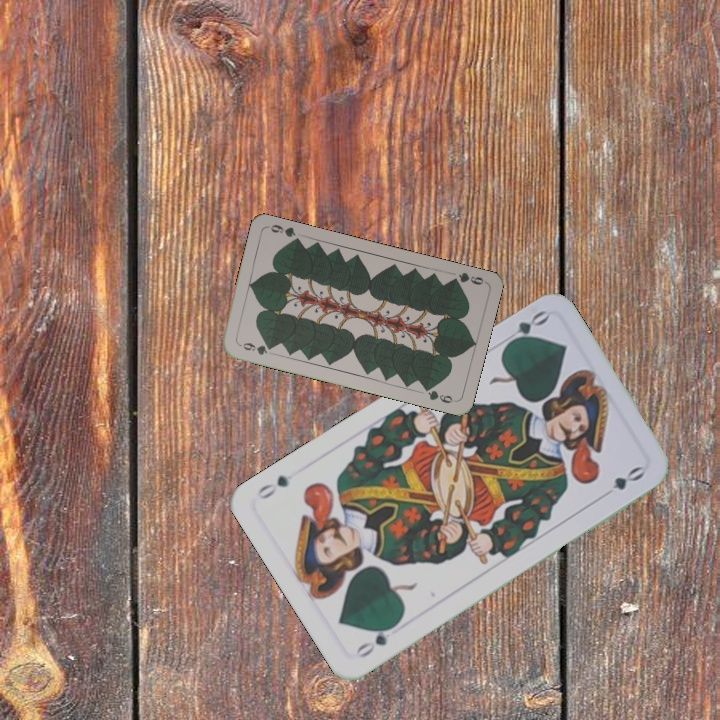G9: (446, 268, 488, 288), (235, 338, 275, 358)
GO: (500, 306, 551, 351), (352, 618, 401, 661)
